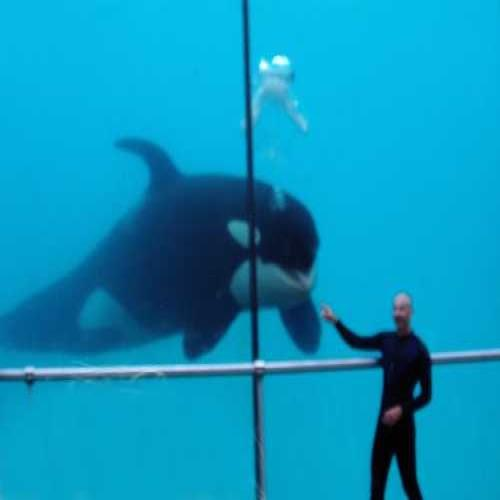killer_whale-endangered: (7, 134, 356, 370)
